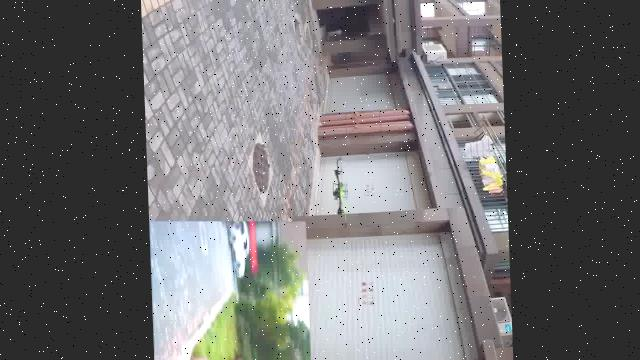drone: (328, 157, 349, 225)
